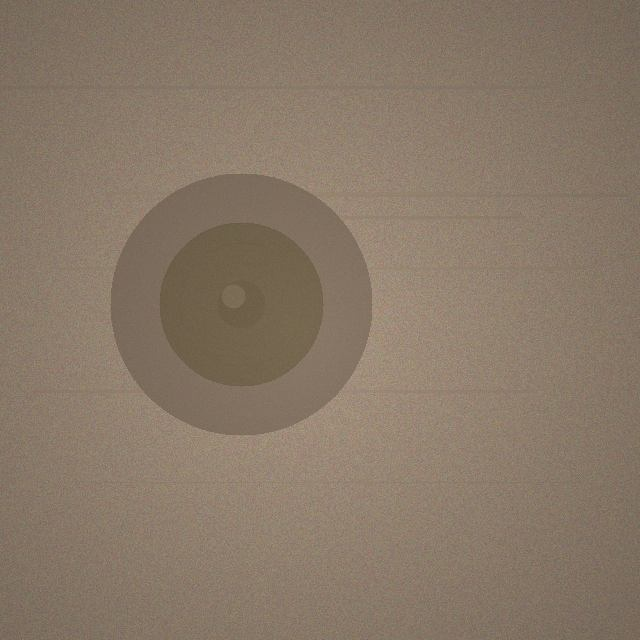good: (110, 173, 372, 435)
